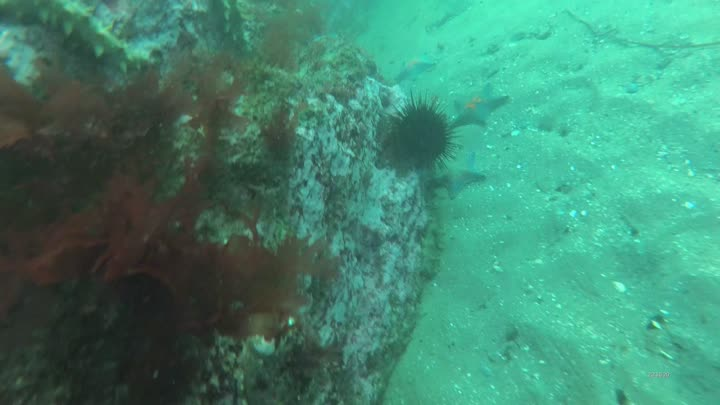echinus: (382, 90, 464, 176)
holothurian: (1, 1, 155, 72)
starfish: (453, 83, 511, 130), (432, 154, 489, 201), (394, 57, 435, 85)
